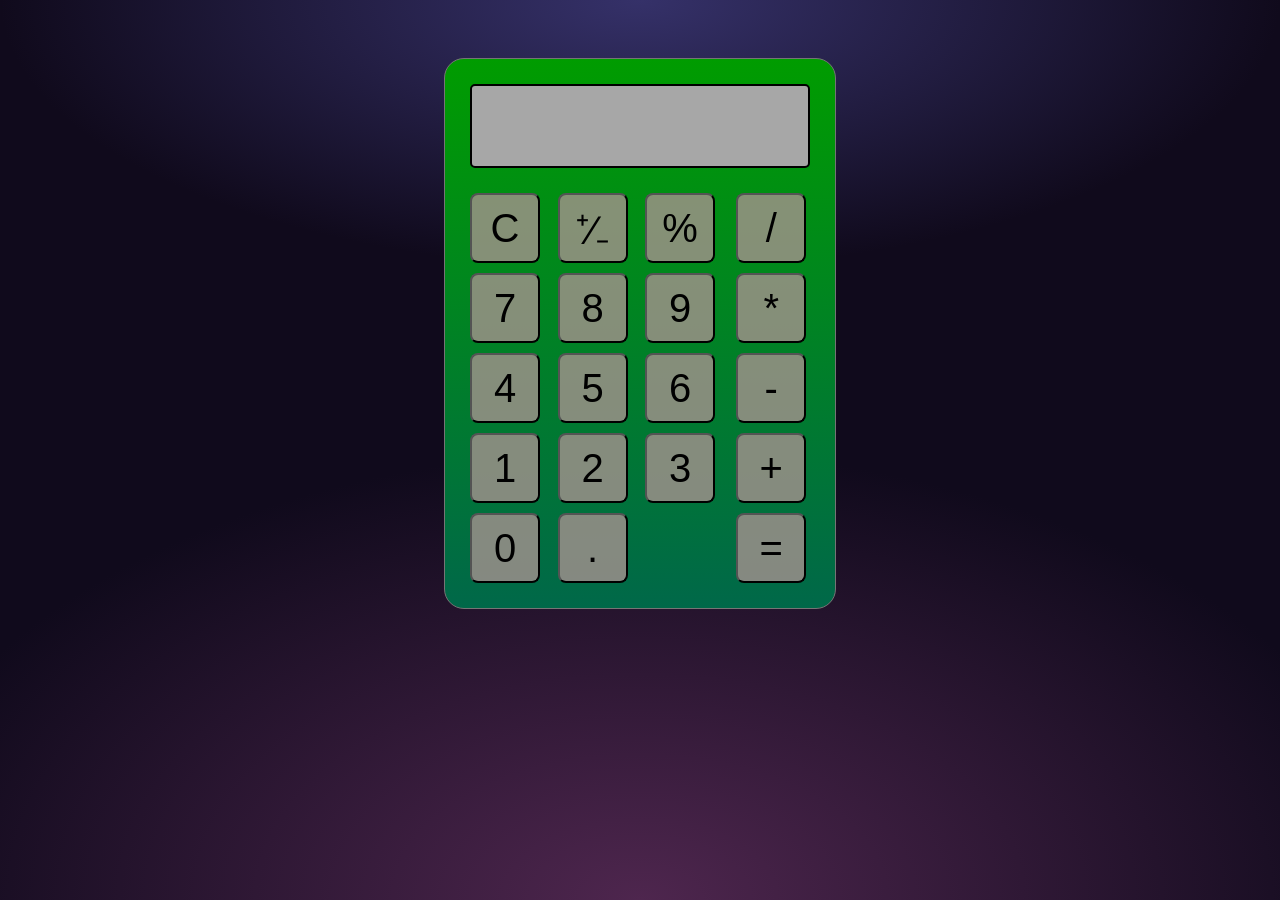
Test case: Calculator functions tests › Writes to screen
The image size is (1280, 900).
Click the button "1" at x=505, y=468, box top-left (470, 433), bottom-right (540, 503)
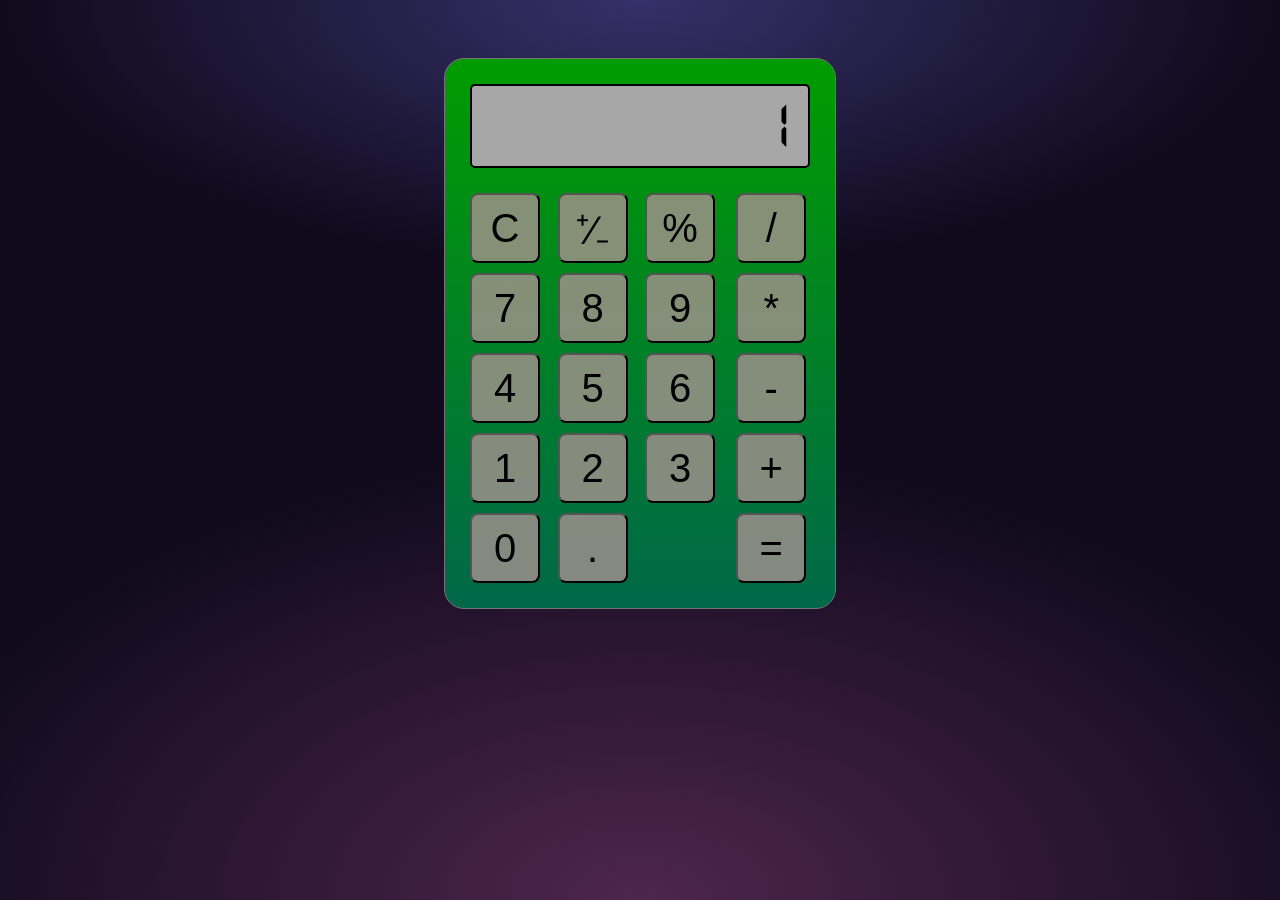
Click the button "6" at x=680, y=388, box top-left (645, 353), bottom-right (715, 423)
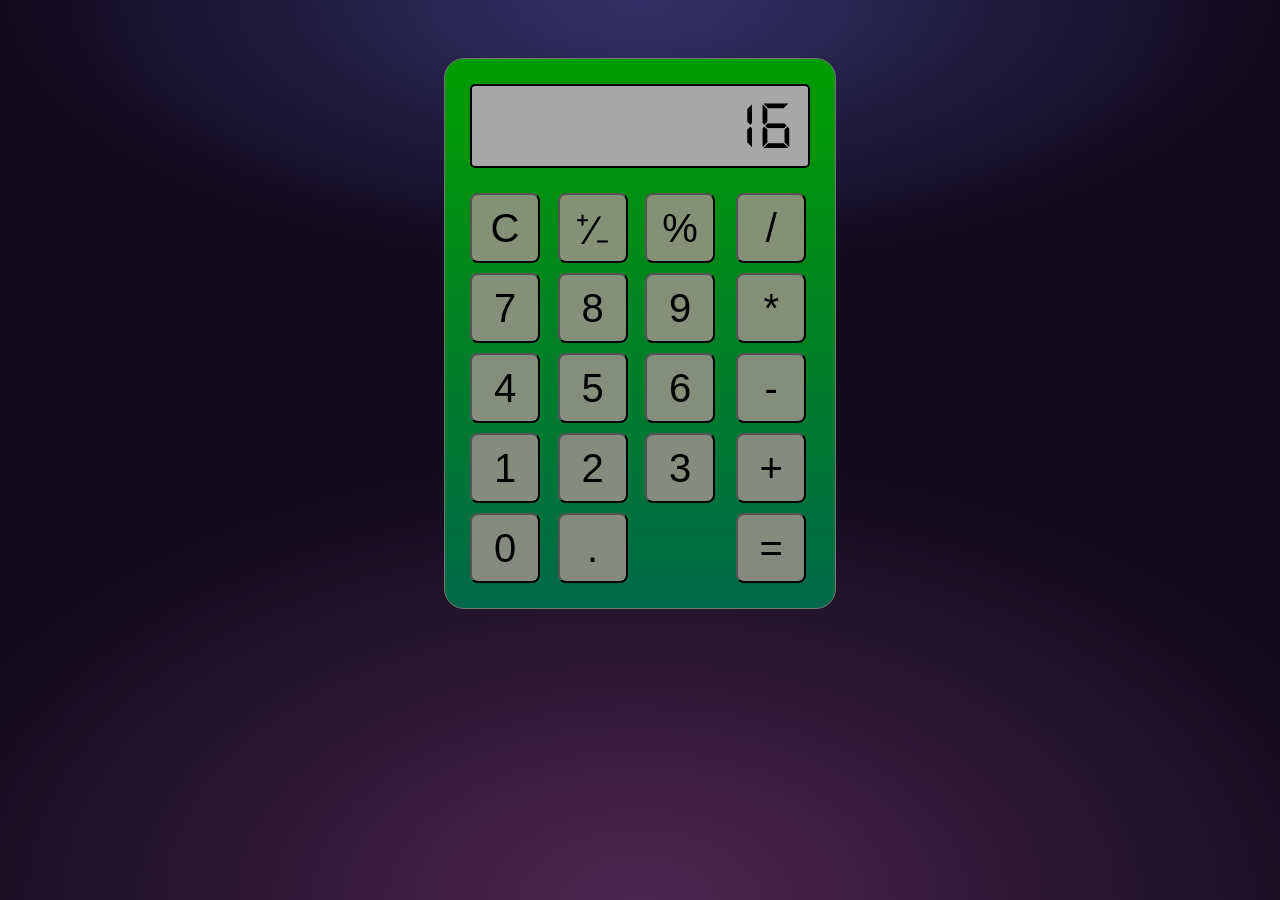
Now the text "16" is shown, box top-left (740, 91), bottom-right (793, 161)
